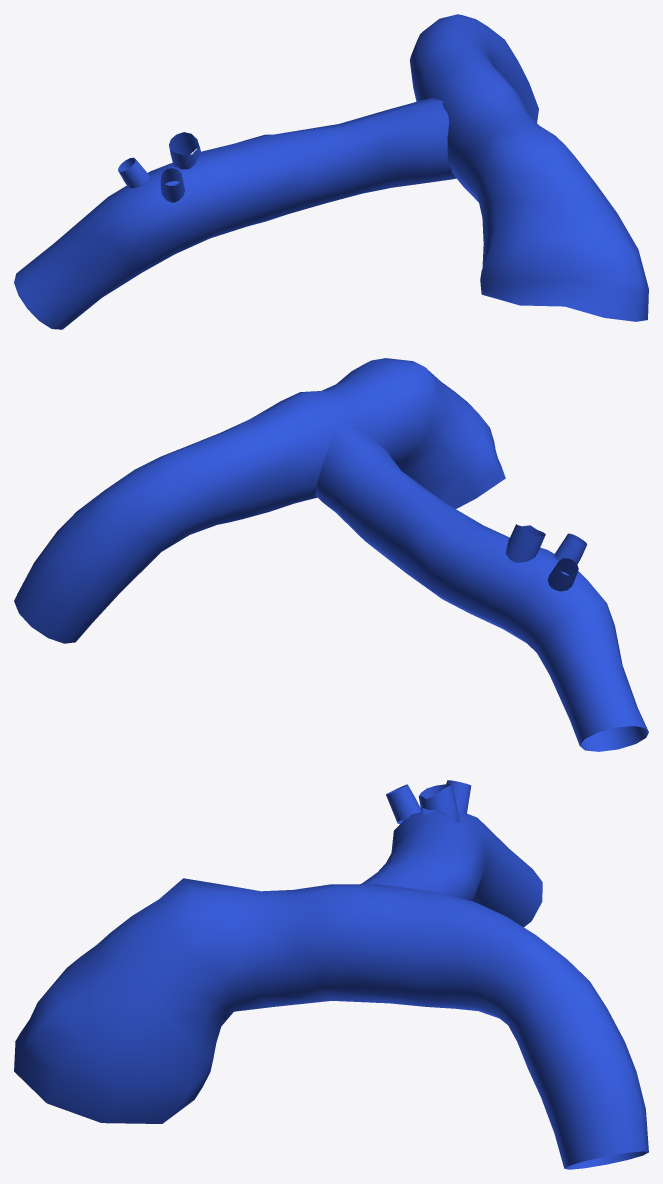
File: pulmonaryartery.gltf
3 renders of one model, top to bottom at view 1: azimuth 30°, elevation 25°; view 2: azimuth 150°, elevation 25°; view 3: azimuth 270°, elevation 25°, orthographic. The views are drawn at different scales.
Parts seen in each view (by area): view 1: a1.026; view 2: a1.026; view 3: a1.026.
Boxes of the visible parts, <box> form: a1.026: <box>14,14,648,329</box>; a1.026: <box>14,358,648,751</box>; a1.026: <box>14,780,648,1169</box>.
Bounding box in the file's own units: 3.73 × 1.36 × 3.16.
